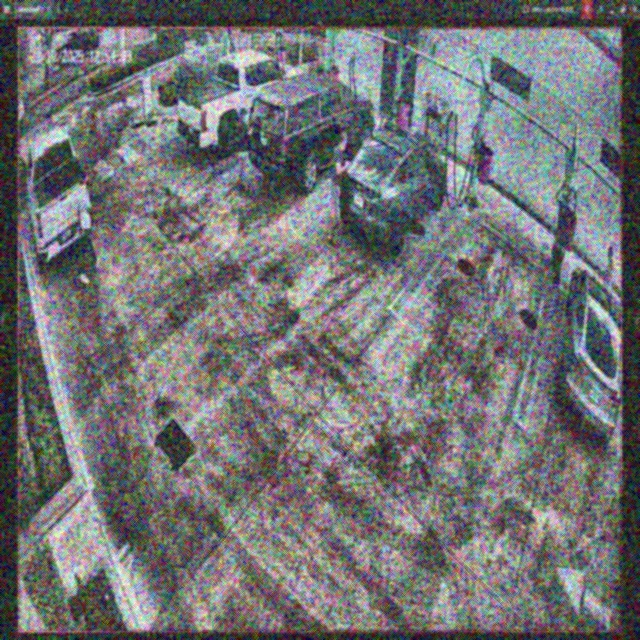Car: (248, 72, 373, 189), (340, 125, 446, 256)
